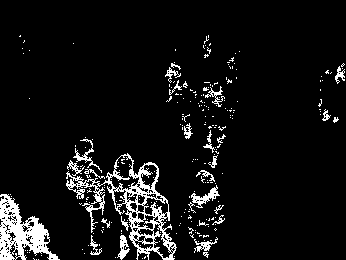person: (66, 137, 110, 255), (126, 160, 176, 260), (185, 166, 226, 260), (107, 152, 142, 259), (200, 79, 232, 169), (167, 62, 197, 139)
